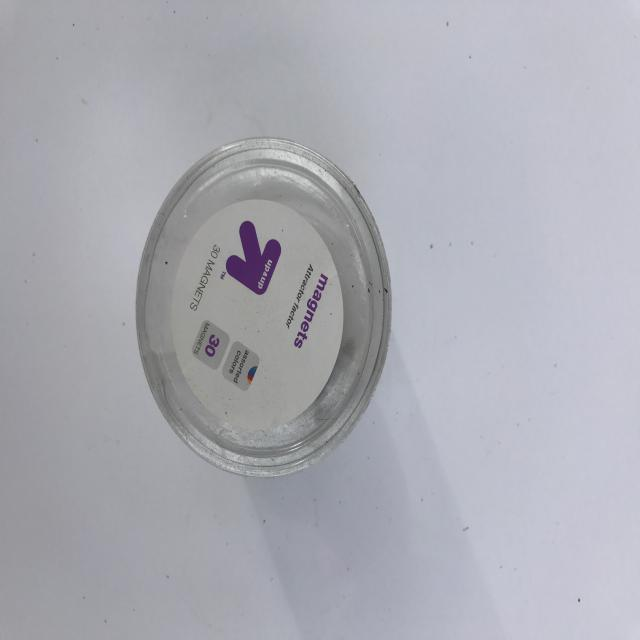plastic: (134, 137, 393, 487)
